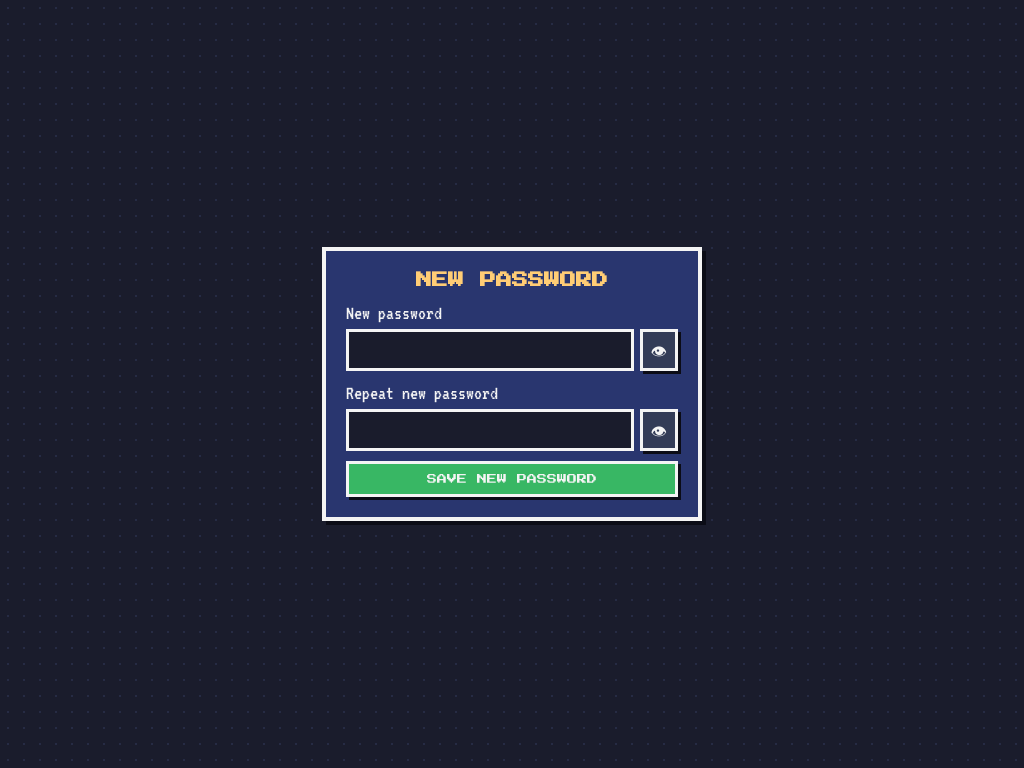
Test case: ResetPasswordScreen › requires both passwords to match
The image size is (1024, 768).
Type "password1" into the password field labelled "New password" at (490,350), box left=346, top=329, right=634, bottom=371
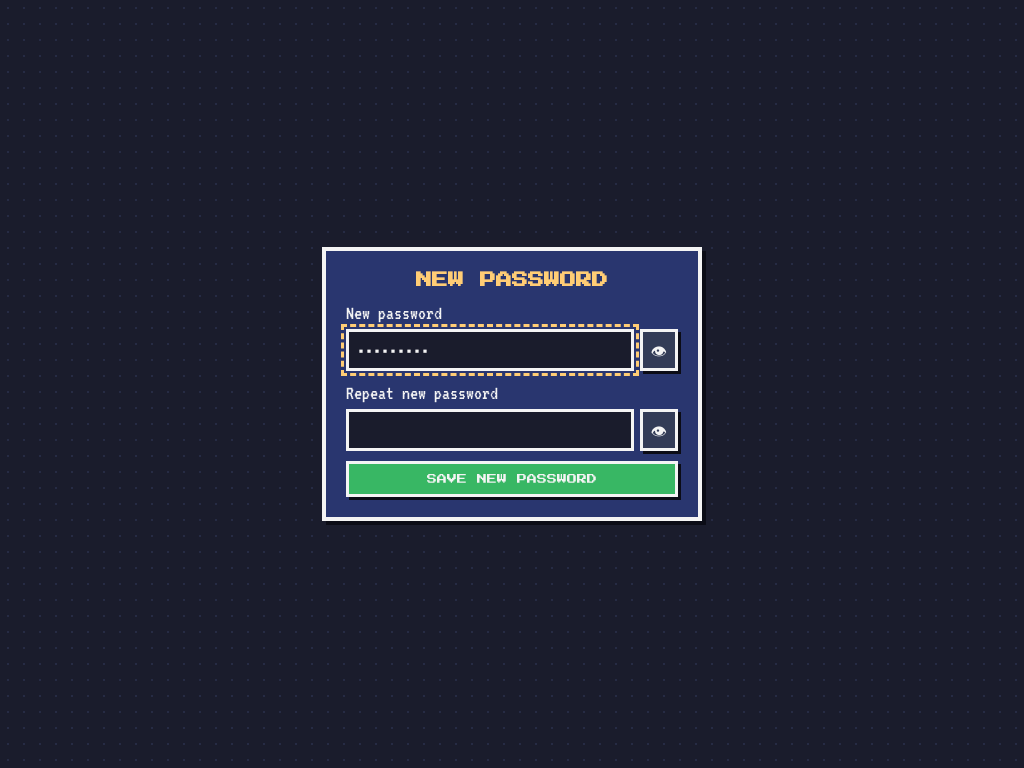
Type "password2" into the password field labelled "Repeat new password" at (490,430), box left=346, top=409, right=634, bottom=451
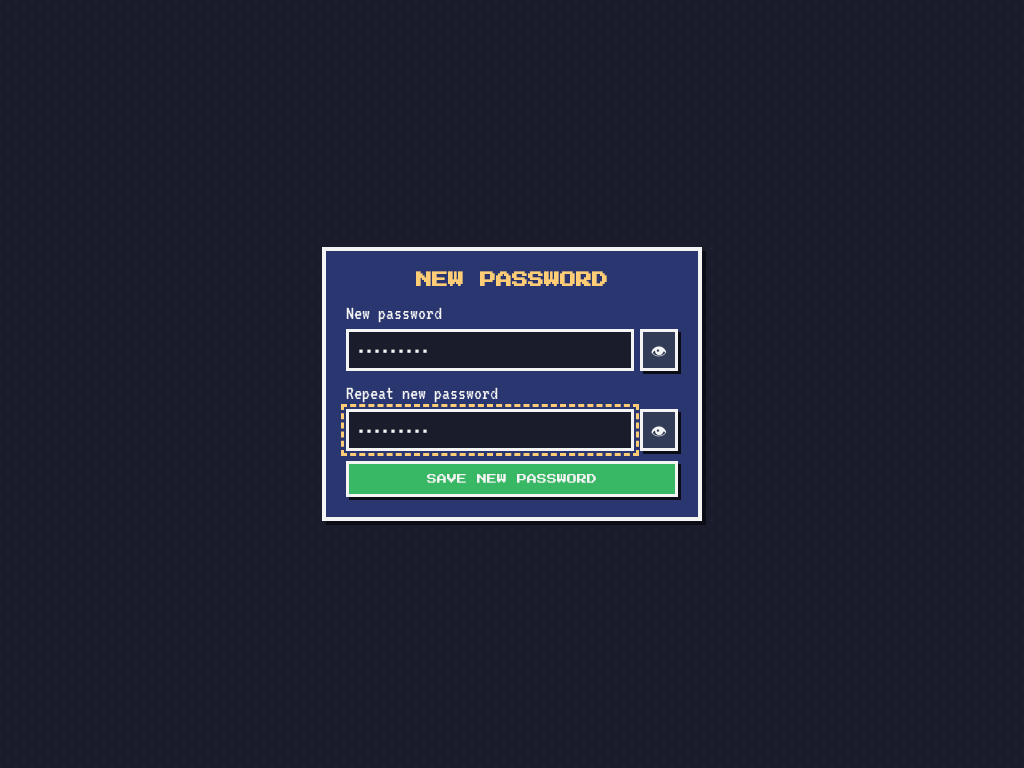
Click the button "Save new password" at (512,479), box left=346, top=461, right=678, bottom=497
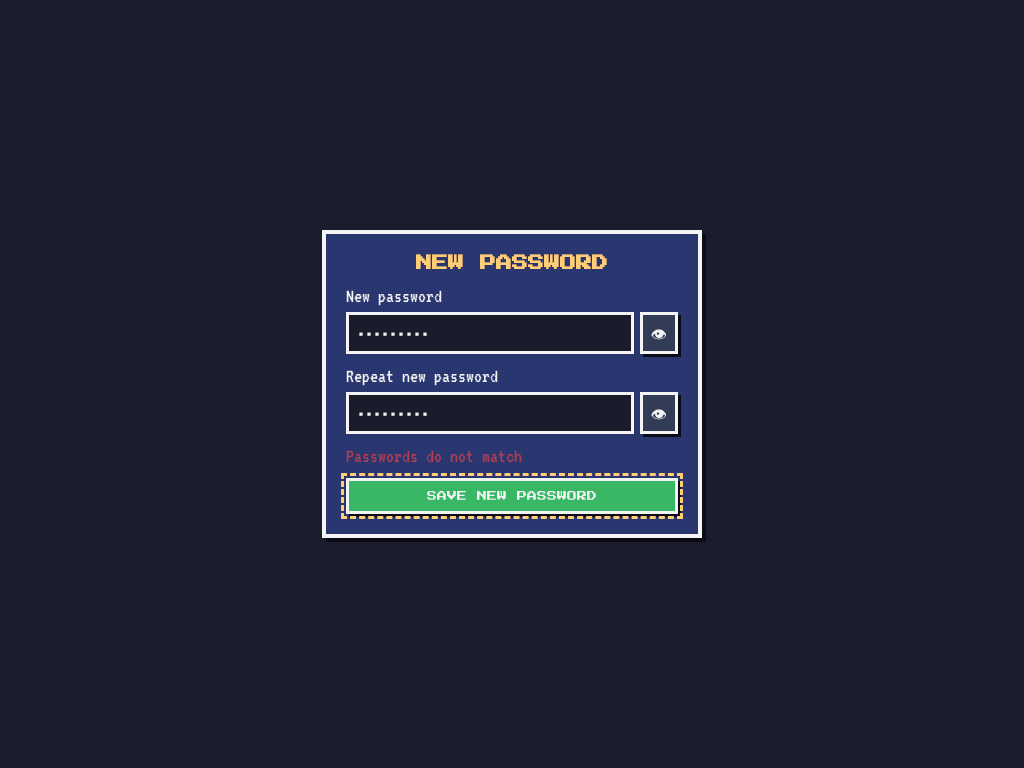
Check: the message reads "Passwords do not match", box left=346, top=446, right=522, bottom=466
